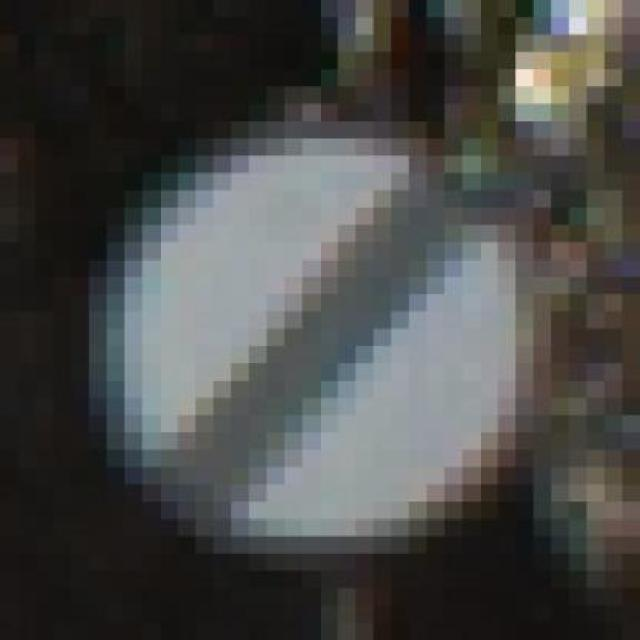End of all speed and passing limits: (106, 86, 534, 571)
